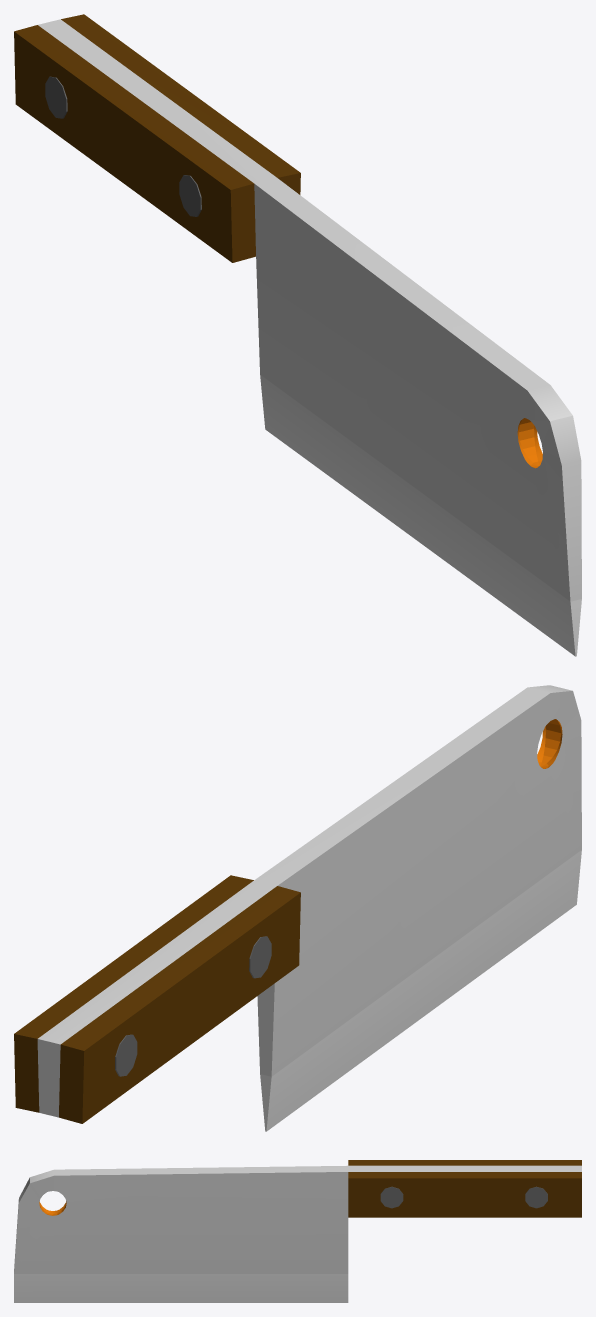
Rendered from Knife.fbx.
3 views of the same model, one above another, from view 1: azimuth 30°, elevation 25°; view 2: azimuth 150°, elevation 25°; view 3: azimuth 270°, elevation 25° (orthographic). The views are drawn at different scales.
Parts seen in each view (by area): view 1: pCylinder4; view 2: pCylinder4; view 3: pCylinder4.
Boxes of the visible parts, x1,y1,x2,y2 form: pCylinder4: (14, 14, 581, 656); pCylinder4: (14, 685, 581, 1131); pCylinder4: (14, 1160, 581, 1302).
Bounding box in the file's own units: 0.0887 × 0.2967 × 1.14.
